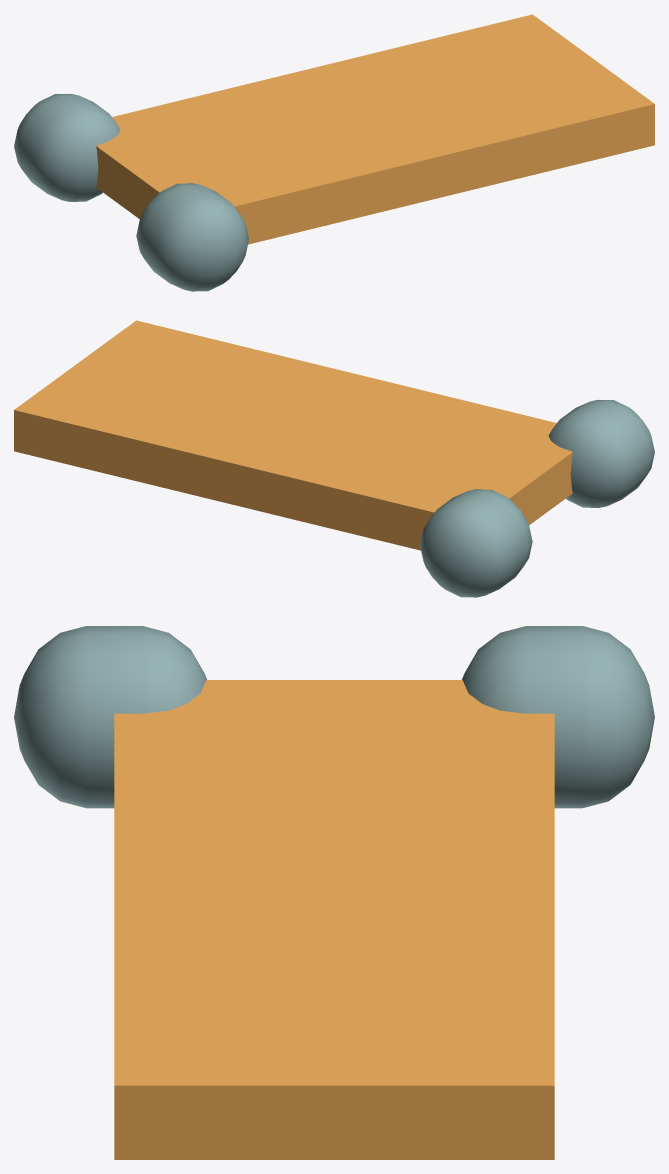
The model's file is diaoban.FBX.
3 renders of one model, top to bottom at view 1: azimuth 30°, elevation 25°; view 2: azimuth 150°, elevation 25°; view 3: azimuth 270°, elevation 25°, orthographic. The views are drawn at different scales.
Visible parts, largest first — view 1: 吊板; view 2: 吊板; view 3: 吊板.
Boxes of the visible parts, left/top/right/bottom form: 吊板: left=14, top=14, right=654, bottom=291; 吊板: left=14, top=320, right=654, bottom=597; 吊板: left=14, top=626, right=654, bottom=1159.
Bounding box in the file's own units: 239 × 41.52 × 146.
